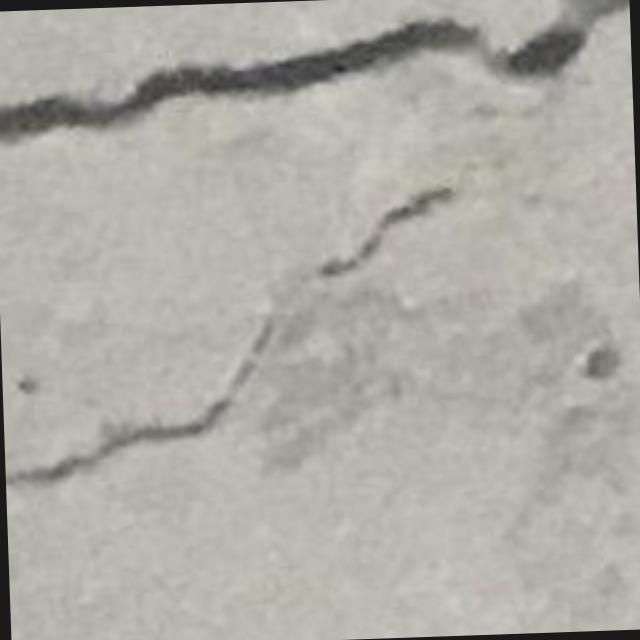crack: (0, 0, 629, 140)
